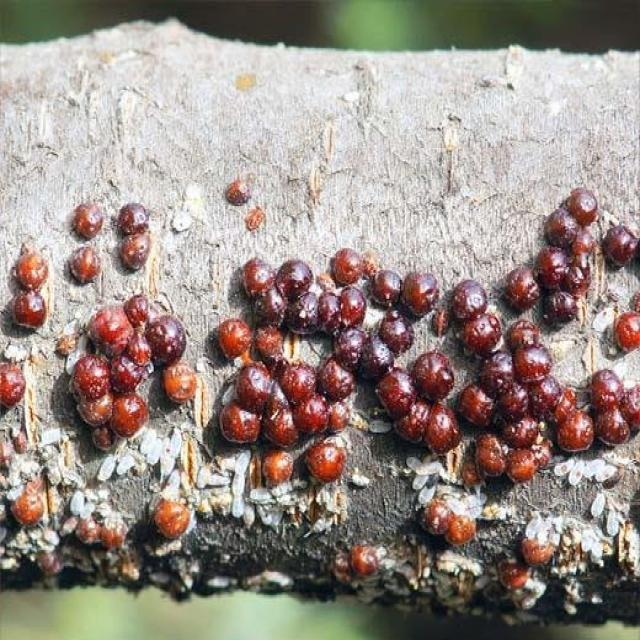BlackScale: (243, 248, 412, 374), (459, 320, 592, 480), (72, 294, 200, 448), (220, 362, 350, 480), (506, 188, 597, 320), (378, 352, 458, 452), (452, 280, 501, 354), (590, 369, 638, 444), (11, 248, 47, 329), (68, 203, 104, 280), (421, 496, 475, 546), (120, 204, 150, 268), (8, 479, 46, 524), (152, 498, 194, 538), (402, 272, 436, 316), (604, 223, 638, 266), (255, 326, 287, 368), (216, 317, 248, 358), (0, 362, 27, 406), (613, 312, 639, 350), (498, 560, 530, 590), (349, 546, 376, 576), (224, 177, 251, 205)
